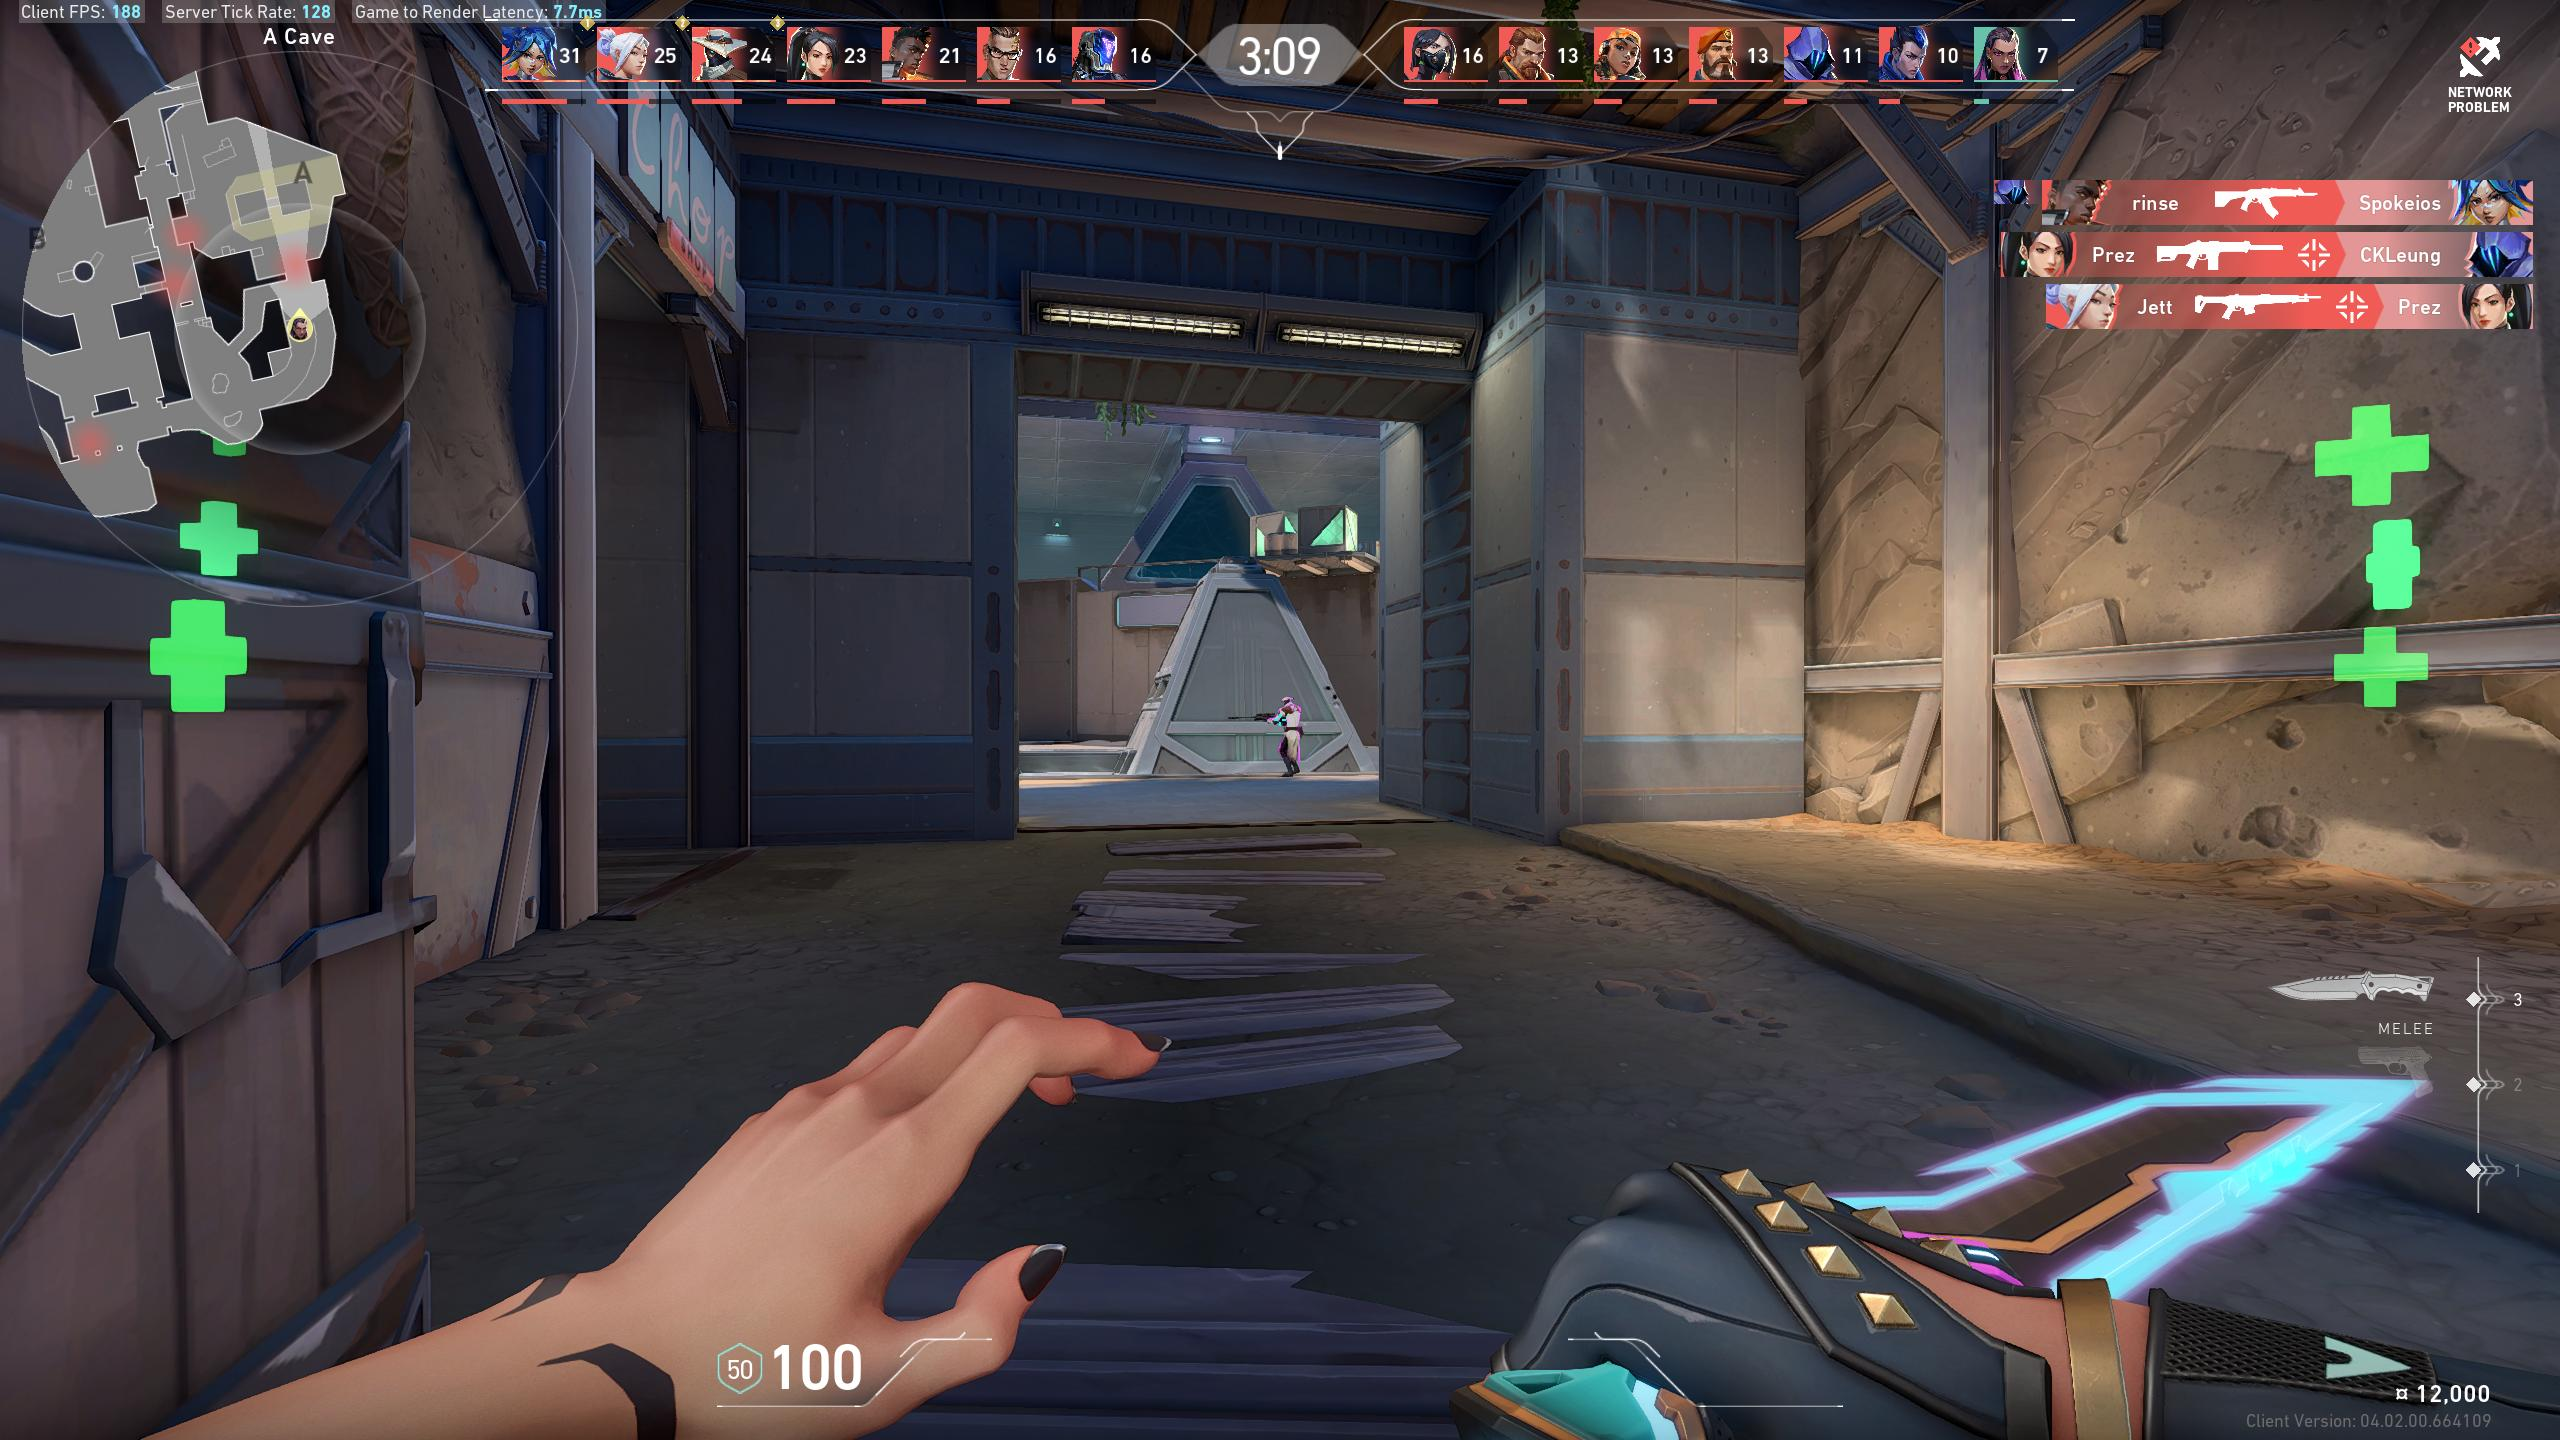enemyBody: (1287, 707, 1298, 728)
enemyHead: (1284, 698, 1291, 703)
